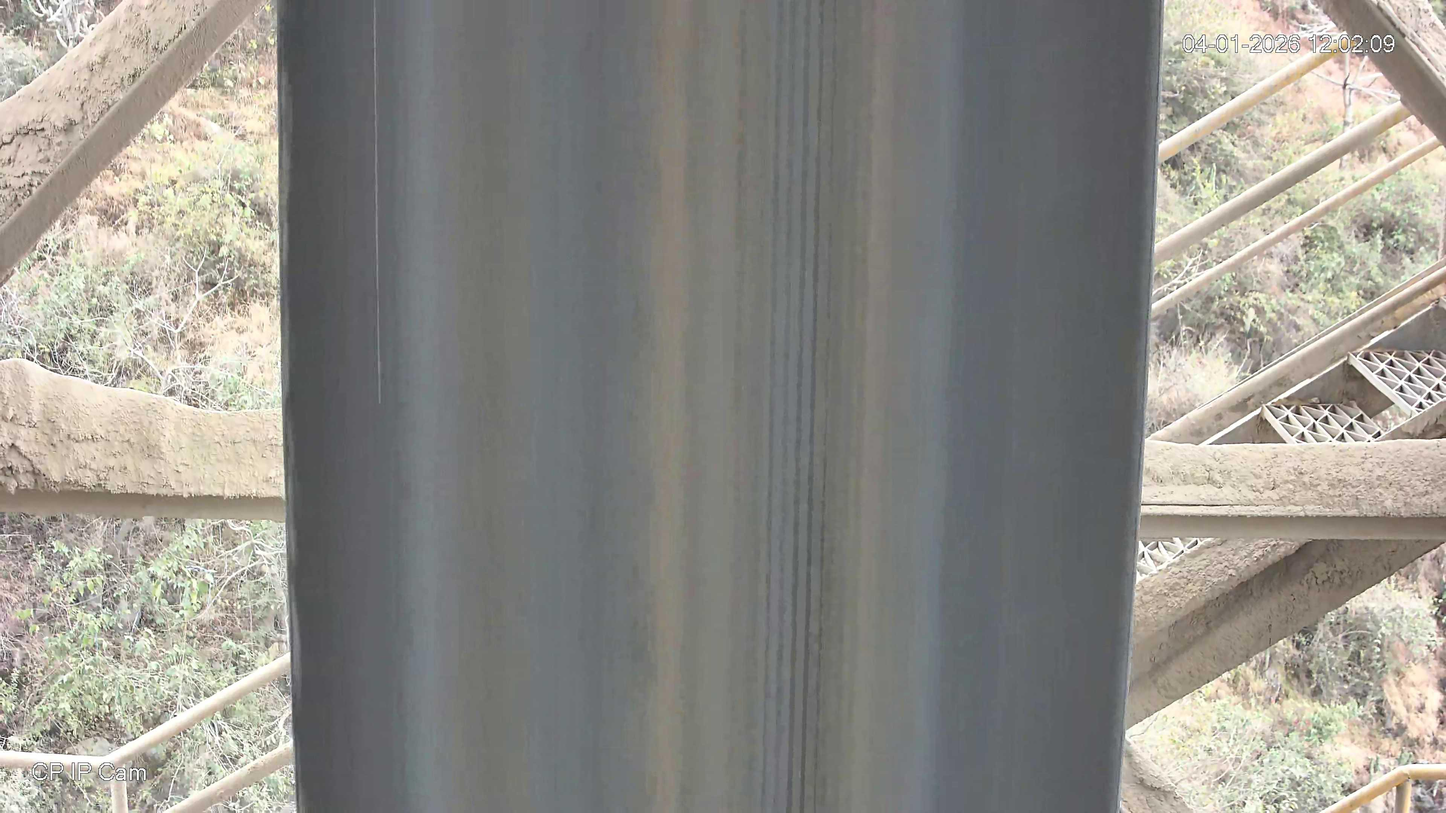belt_roi: (276, 0, 1166, 813)
